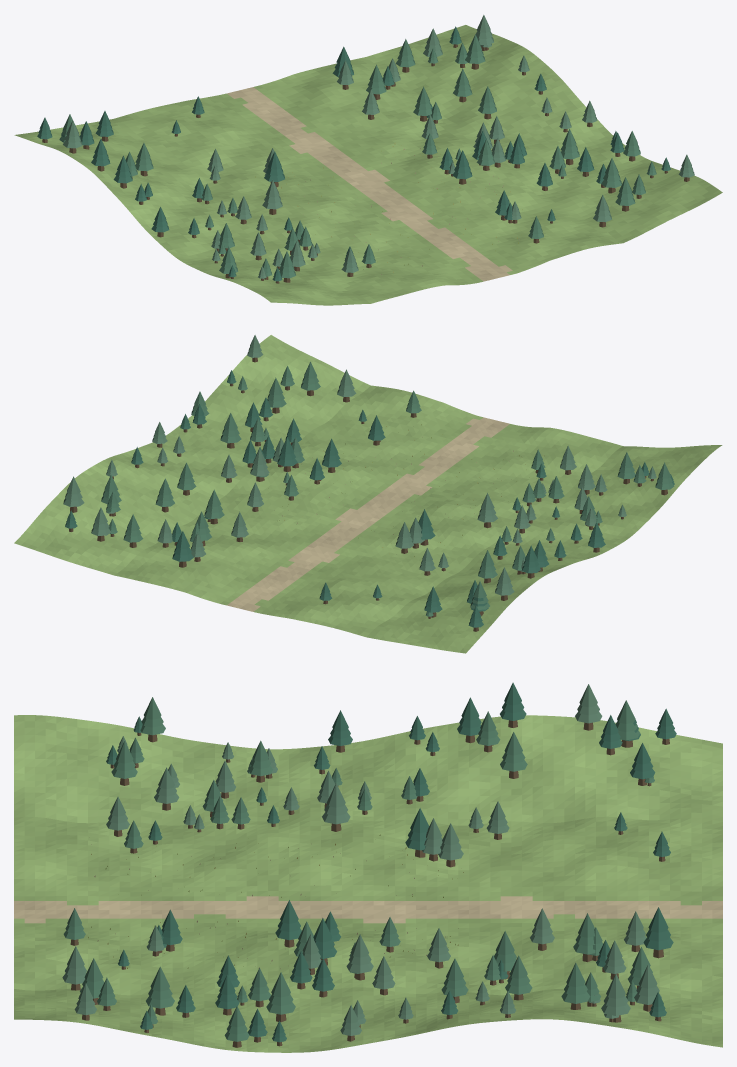
The model's file is waterfront.glb.
3 renders of one model, top to bottom at view 1: azimuth 30°, elevation 25°; view 2: azimuth 150°, elevation 25°; view 3: azimuth 270°, elevation 25°, orthographic. The views are drawn at different scales.
Visible parts, largest first — view 1: waterfront; view 2: waterfront; view 3: waterfront.
Part boxes in pixels (left/top/right/bottom): waterfront: left=14, top=15, right=722, bottom=305; waterfront: left=14, top=335, right=722, bottom=653; waterfront: left=14, top=682, right=722, bottom=1052.
Bounding box in the file's own units: 68 × 8.76 × 67.
